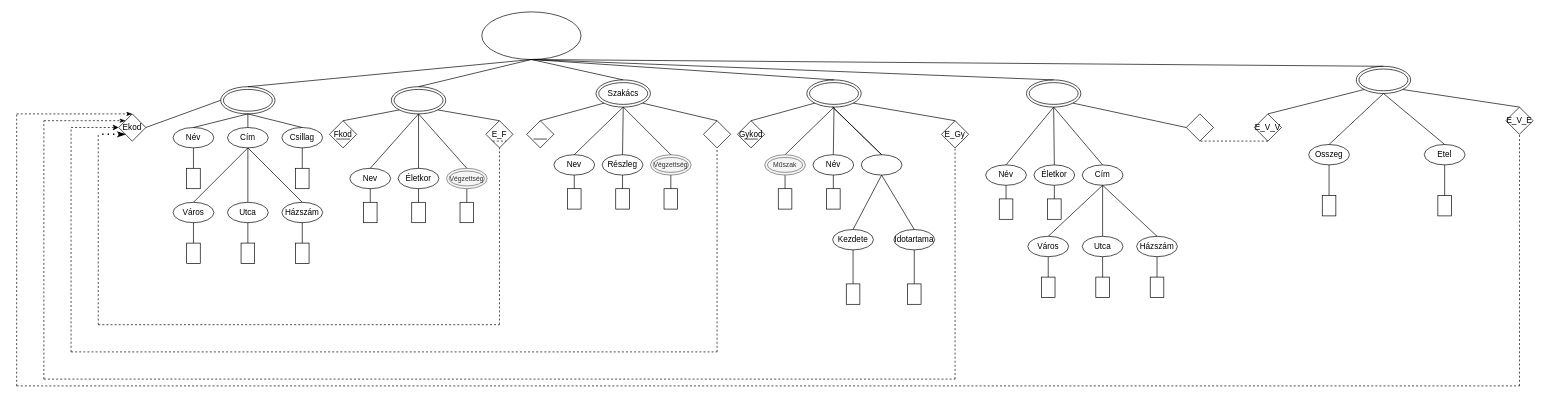
Image size: 1545x398. Some labels were removed from this diagram. The shapes that lost their labels are listed below. From the top down, each one's centre as x and y in pixels, then its label:
point (531, 35): OP9WRO_vendeglatas
point (247, 100): Étterem
point (418, 100): Főszakács
point (833, 93): Gyakornok
point (1053, 93): Vendég
point (1383, 80): Rendeles
point (540, 134): Szkod
point (717, 134): E_Sz
point (1199, 127): Vkod
point (881, 164): Gyakorlat
